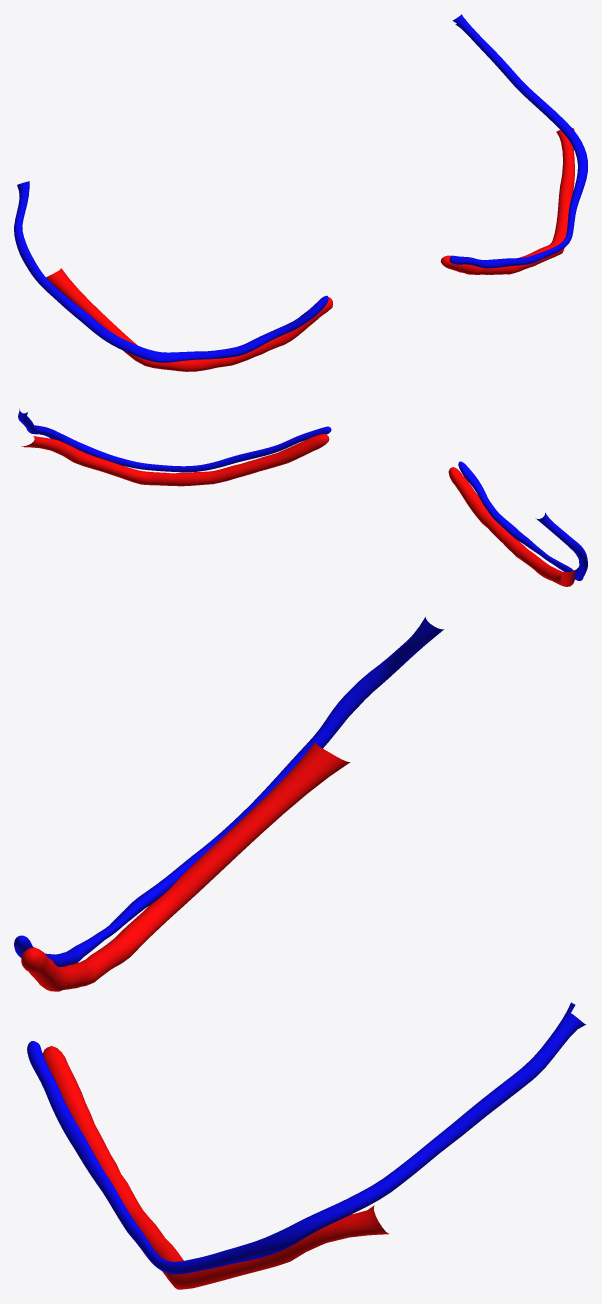
Rendered from VH_F_Blood_Vasculature_Uterus.glb.
The picture shows the model from 3 angles, top to bottom: view 1: azimuth 30°, elevation 25°; view 2: azimuth 150°, elevation 25°; view 3: azimuth 270°, elevation 25°; orthographic projection. The views are drawn at different scales.
Parts seen in each view (by area): view 1: VH_F_right_uterine_vein, VH_F_left_uterine_vein, VH_F_right_uterine_artery, VH_F_left_uterine_artery; view 2: VH_F_left_uterine_artery, VH_F_left_uterine_vein, VH_F_right_uterine_artery, VH_F_right_uterine_vein; view 3: VH_F_left_uterine_vein, VH_F_right_uterine_artery, VH_F_left_uterine_artery, VH_F_right_uterine_vein.
Boxes of the visible parts, x1,y1,x2,y2 form: VH_F_right_uterine_vein: (14, 181, 328, 362); VH_F_left_uterine_vein: (449, 14, 587, 268); VH_F_right_uterine_artery: (46, 268, 332, 371); VH_F_left_uterine_artery: (440, 128, 574, 274); VH_F_left_uterine_artery: (21, 434, 329, 486); VH_F_left_uterine_vein: (18, 409, 331, 472); VH_F_right_uterine_artery: (448, 467, 575, 586); VH_F_right_uterine_vein: (458, 461, 587, 580); VH_F_left_uterine_vein: (27, 1002, 585, 1274); VH_F_right_uterine_artery: (21, 742, 350, 991); VH_F_left_uterine_artery: (42, 1046, 389, 1289); VH_F_right_uterine_vein: (14, 617, 443, 966).
Size of the model in its own units: 0.1222 by 0.0353 by 0.0587.
